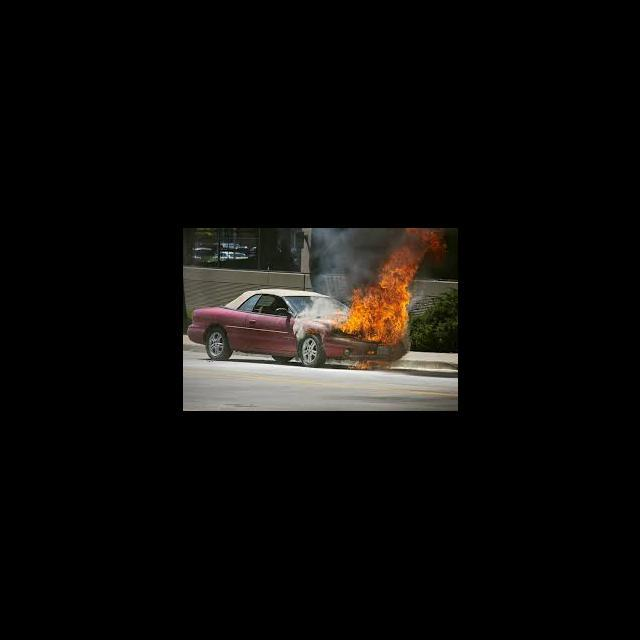Fire: (334, 228, 449, 346), (344, 359, 394, 372)
Smoke: (292, 296, 333, 340)
